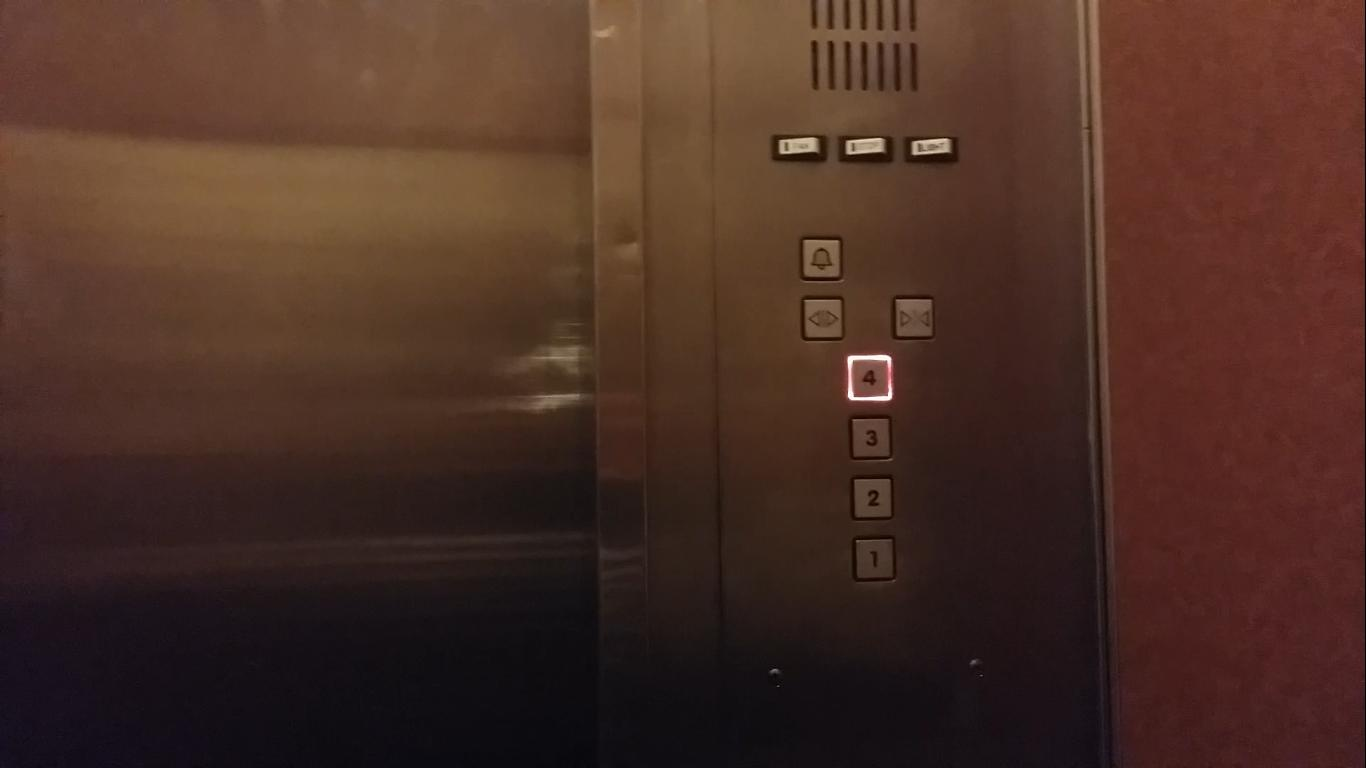1: (850, 532, 898, 584)
2: (849, 473, 896, 521)
3: (846, 412, 895, 463)
4: (845, 351, 894, 402)
alarm: (795, 233, 848, 284)
close: (890, 292, 939, 343)
open: (798, 291, 847, 342)
switch: (769, 129, 830, 163), (833, 129, 894, 163), (902, 129, 963, 163)
